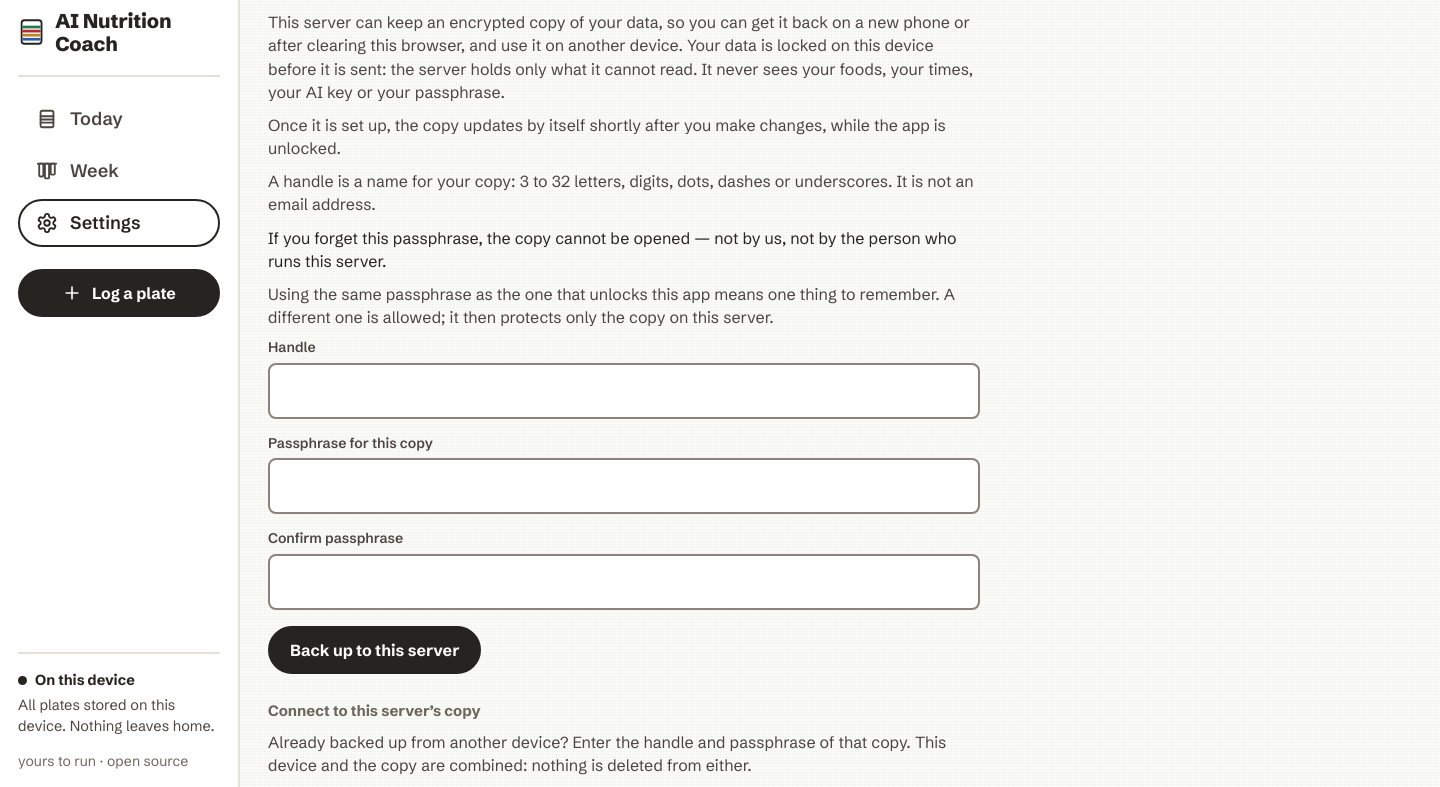
Test: Case C: back up to this server › creates the vault, connects the device and says so; nothing readable is sent
(page scrolled)
In the field labelled "Handle": (624,391) [270,365,978,417], type "Alice"
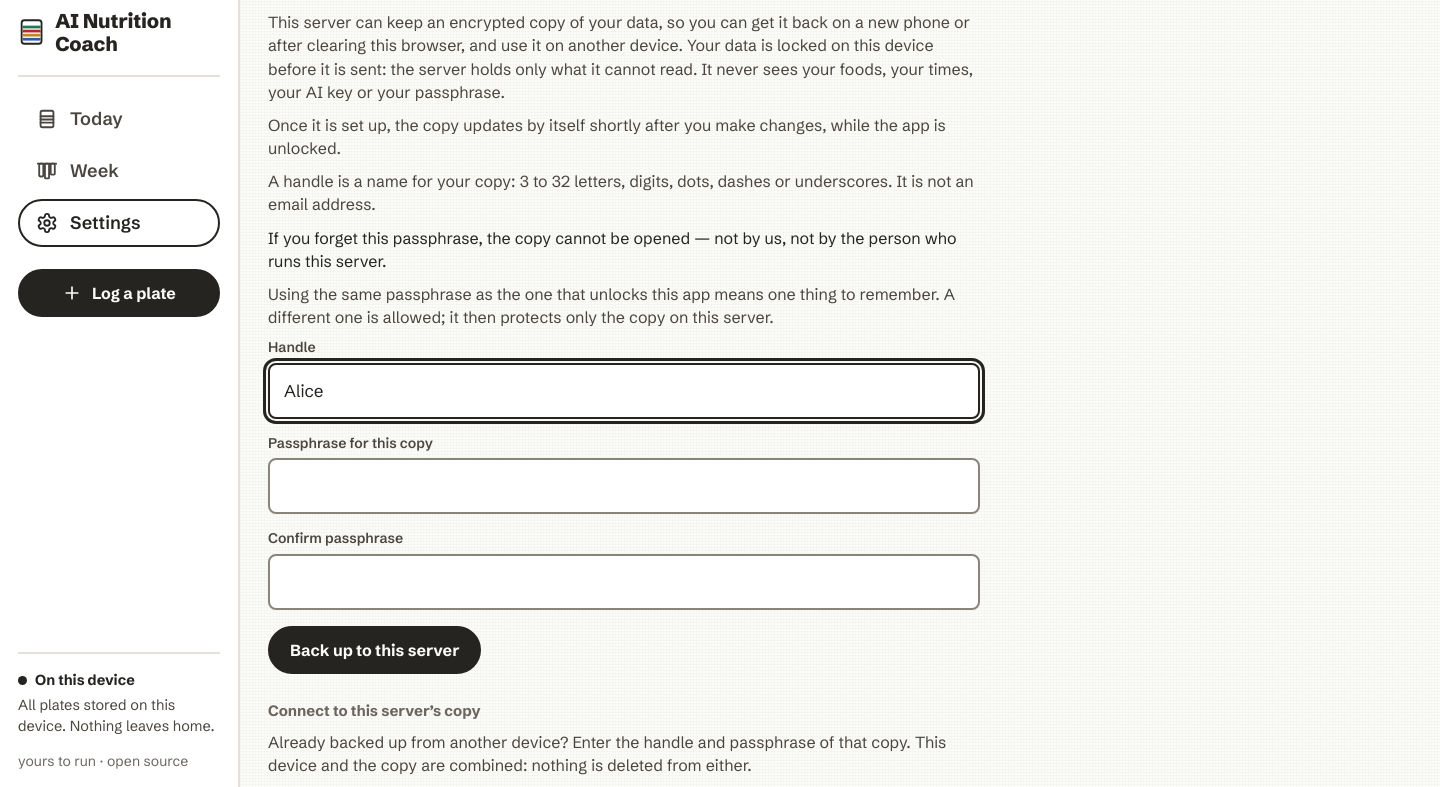
In the password field labelled "Passphrase for this copy": (624,486) [270,460,978,512], type "a vault passphrase"
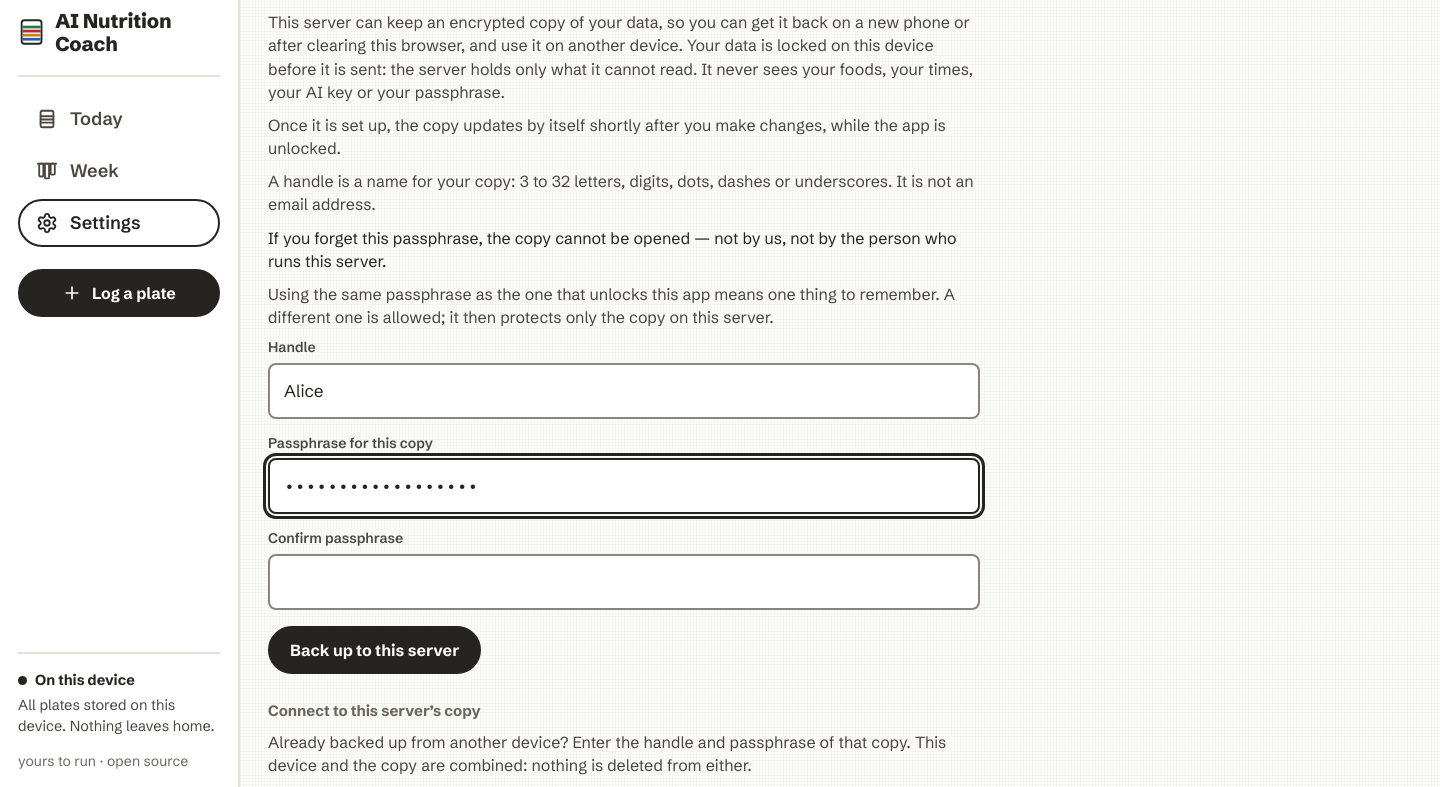
In the password field labelled "Confirm passphrase": (624,582) [270,556,978,608], type "a vault passphrase"
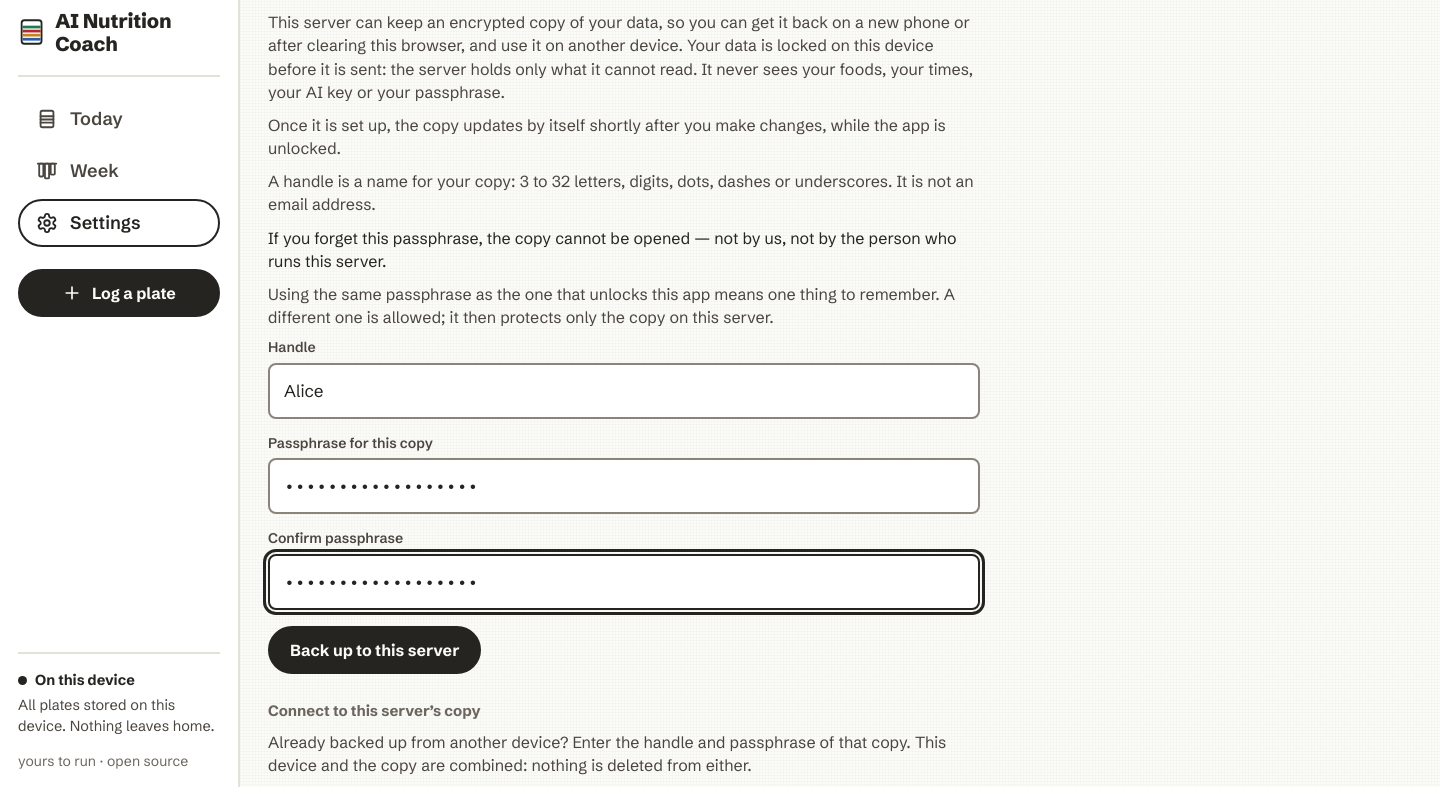
Click the button "Back up to this server": (375,650) [268,626,482,674]
(page scrolled)
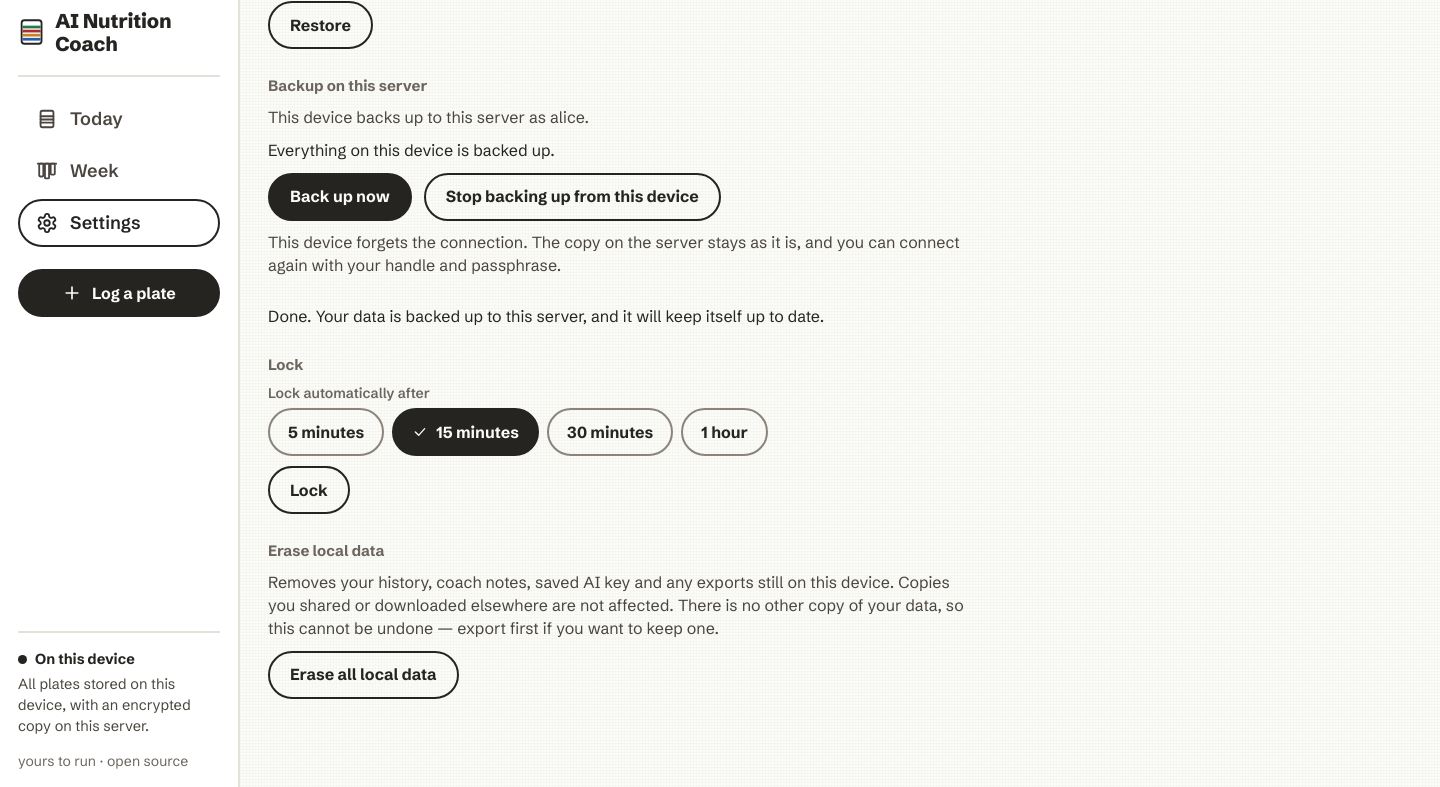
Check: the text "Done. Your data is backed up to this server" is shown, box [268,306,824,326]
Check: the heading "Backup on this server" is shown, box [268,76,427,95]
Check: the text "This device backs up to this server as alice." is shown, box [268,107,589,127]
